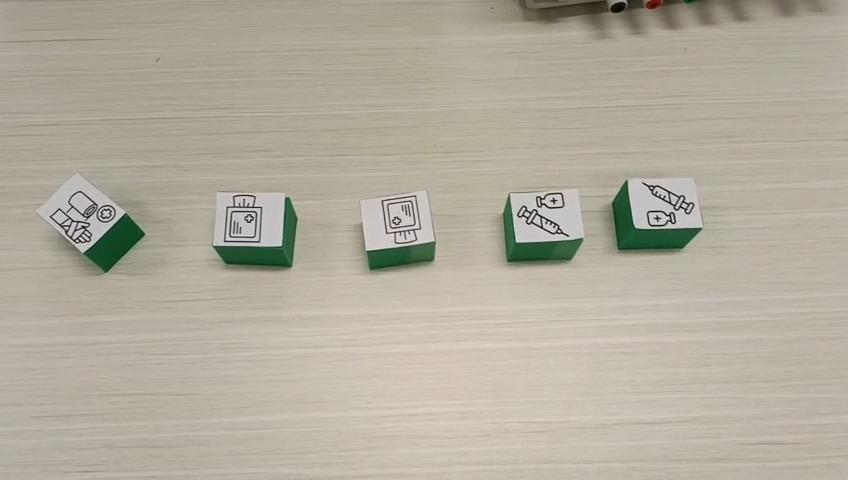Bandages: (32, 172, 144, 273)
Gauze: (212, 191, 298, 267), (358, 189, 436, 270)
antiseptic cream: (610, 175, 704, 250), (501, 187, 586, 262)
